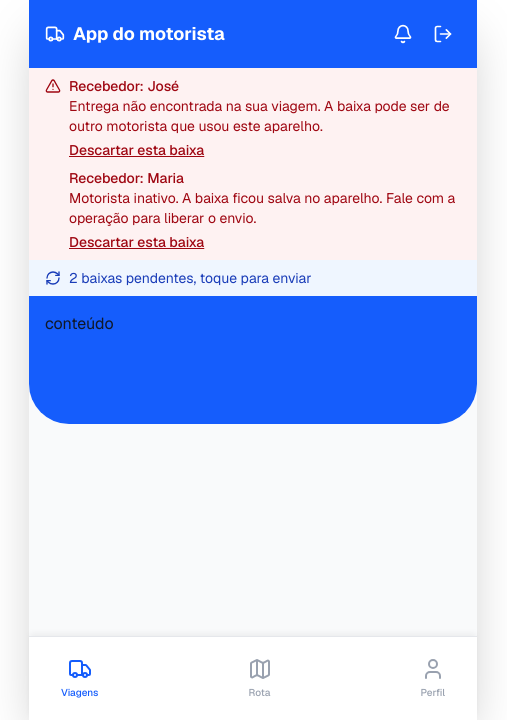
Test: casca do motorista: baixas presas › descartar apaga só a baixa escolhida
The image size is (507, 720).
Expected: the number of list items is 2, [69,76,461,160]; [69,168,461,252]
Click the button "Descartar esta baixa" below "José" at [137, 150], box [69,140,204,160]
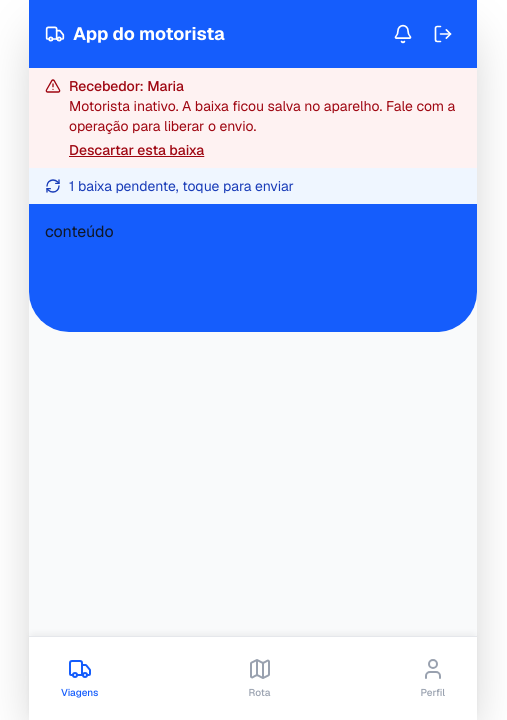
Expected: the list item shows "Motorista inativo.", [69,97,455,135]
Now the number of list items is 1, box [69,76,461,160]
